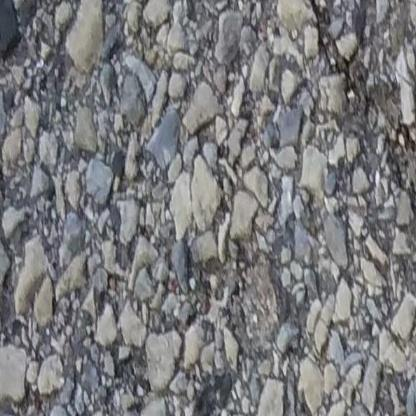Cracks: (306, 0, 416, 216)
